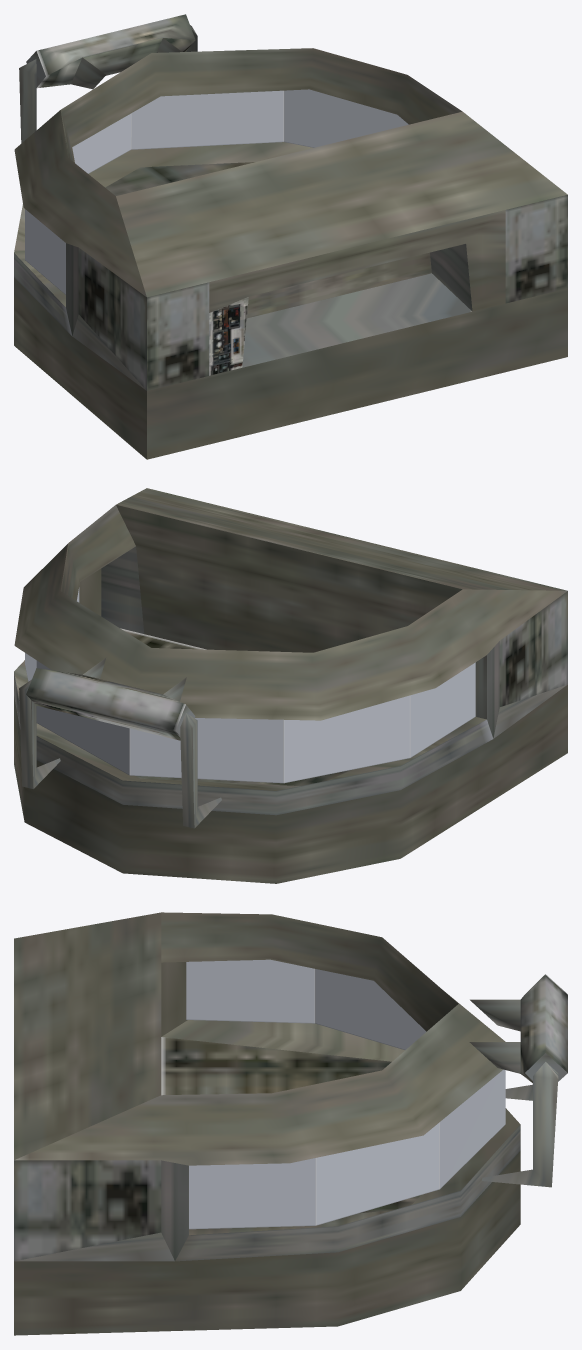
The model's file is ins_all_craftable_creature_farm_s01_u0_l2.fbx.
The picture shows the model from 3 angles, top to bottom: view 1: azimuth 30°, elevation 25°; view 2: azimuth 150°, elevation 25°; view 3: azimuth 270°, elevation 25°; orthographic projection. The views are drawn at different scales.
Visible parts, largest first — view 1: mesh_node; view 2: mesh_node; view 3: mesh_node.
Part boxes in pixels (left/top/right/bottom): mesh_node: left=14, top=14, right=567, bottom=459; mesh_node: left=14, top=488, right=567, bottom=883; mesh_node: left=14, top=912, right=567, bottom=1335.
Bounding box in the file's own units: 14 × 6.5 × 14.78.
2 materials, 2 textured.
